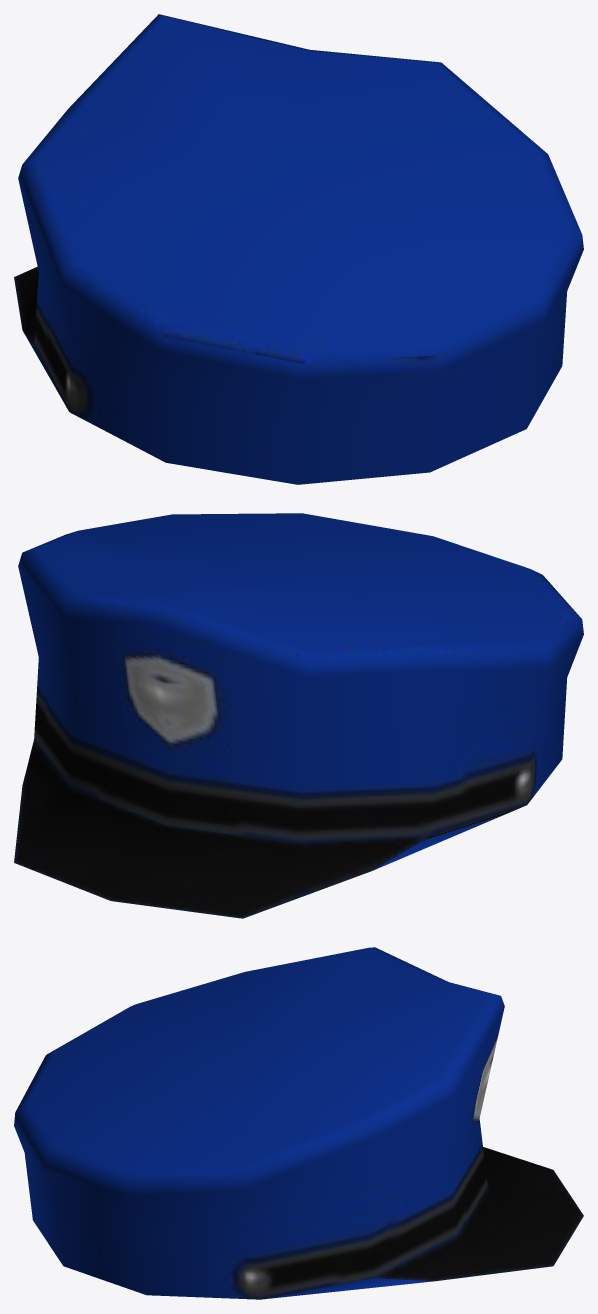
Rendered from acc.glb.
3 renders of one model, top to bottom at view 1: azimuth 30°, elevation 25°; view 2: azimuth 150°, elevation 25°; view 3: azimuth 270°, elevation 25°, orthographic. The views are drawn at different scales.
Visible parts, largest first — view 1: Handle; view 2: Handle; view 3: Handle.
Part boxes in pixels (x1,y1,x2,y2): Handle: [14, 14, 583, 484]; Handle: [14, 513, 583, 918]; Handle: [14, 947, 583, 1299].
Bounding box in the file's own units: 1.48 × 0.7623 × 1.74.
Materials: 1 (1 with a texture image).
